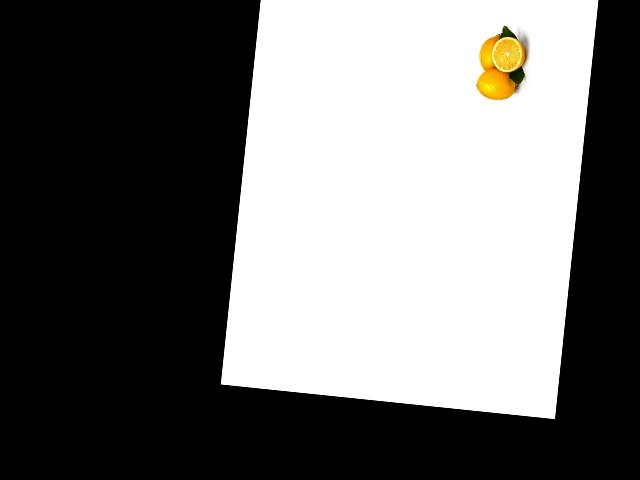lemon: (476, 29, 504, 70)
